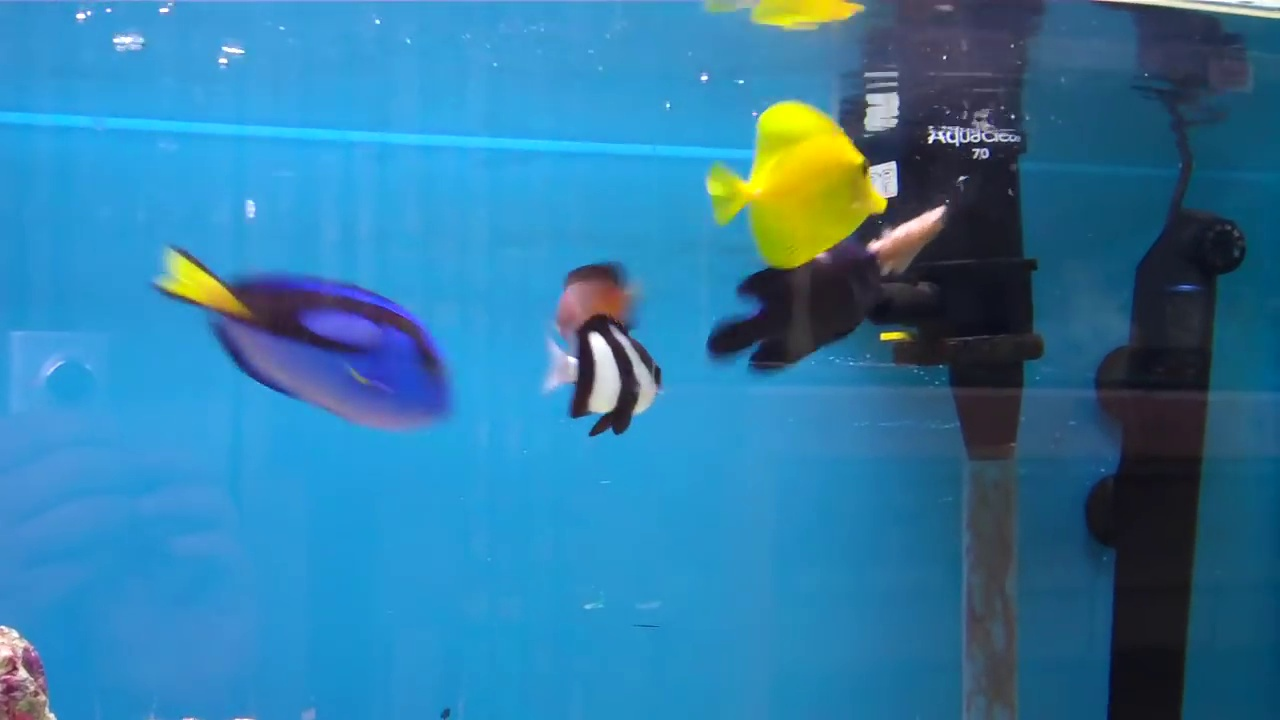blue tang surgeonfish: (165, 232, 461, 445)
saddle butterfly fish: (708, 91, 902, 277)
